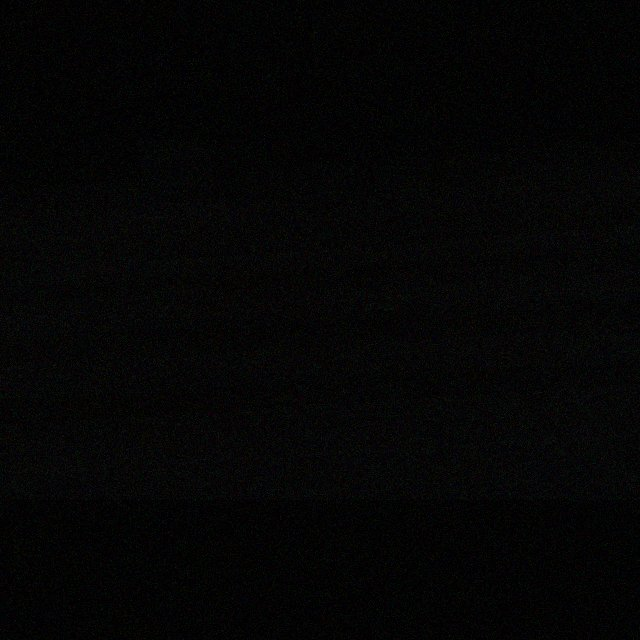stair: (0, 158, 639, 498)
